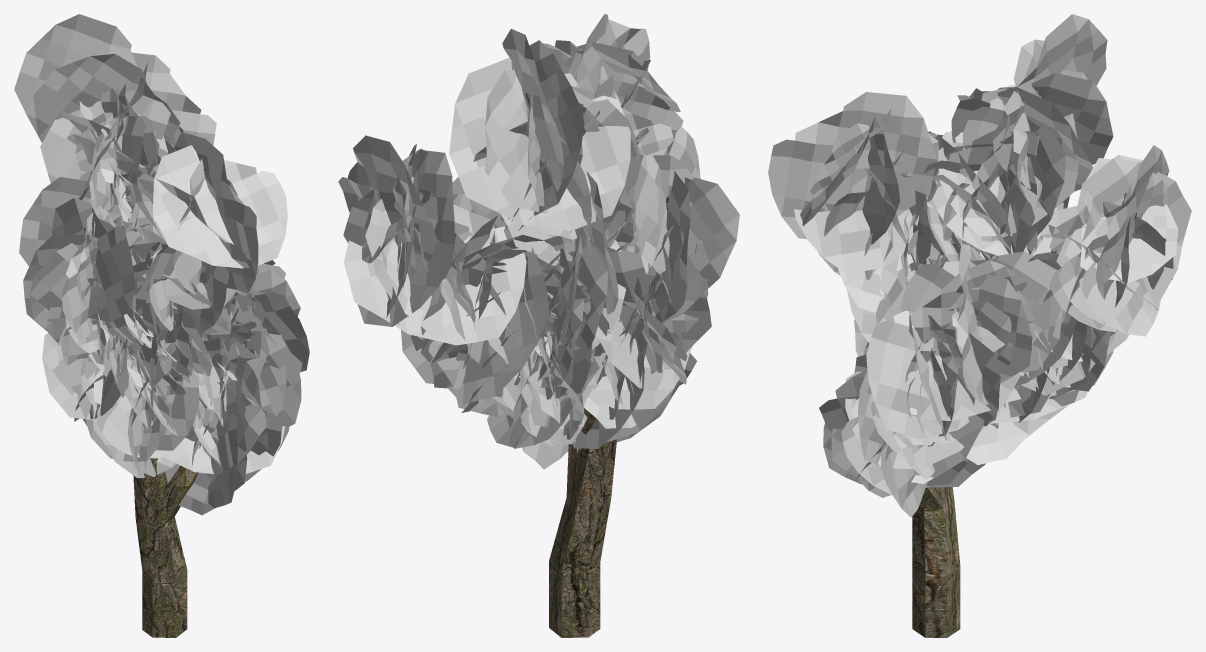
File: particle-tree.fbx
3 renders of one model, left to right at view 1: azimuth 30°, elevation 25°; view 2: azimuth 150°, elevation 25°; view 3: azimuth 270°, elevation 25°, orthographic. The views are drawn at different scales.
Parts seen in each view (by area): view 1: Cube|leaves1|Dupli|175, Cube, Cube|leaves1|Dupli|74, Cube|leaves1|Dupli|213, Cube|leaves1|Dupli|75, Cube|leaves1|Dupli|176, Cube|leaves1|Dupli|70, Cube|leaves1|Dupli|146, Cube|leaves1|Dupli|296, Cube|leaves1|Dupli|212, Cube|leaves1|Dupli|211, Cube|leaves1|Dupli|229 (+52 smaller); view 2: Cube|leaves1|Dupli|55, Cube, Cube|leaves1|Dupli|141, Cube|leaves1|Dupli|117, Cube|leaves1|Dupli|56, Cube|leaves1|Dupli|138, Cube|leaves1|Dupli|146, Cube|leaves1|Dupli|212, Cube|leaves1|Dupli|213, Cube|leaves1|Dupli|75, Cube|leaves1|Dupli|74, Cube|leaves1|Dupli|211 (+45 smaller); view 3: Cube|leaves1|Dupli|176, Cube, Cube|leaves1|Dupli|251, Cube|leaves1|Dupli|74, Cube|leaves1|Dupli|261, Cube|leaves1|Dupli|56, Cube|leaves1|Dupli|144, Cube|leaves1|Dupli|171, Cube|leaves1|Dupli|138, Cube|leaves1|Dupli|146, Cube|leaves1|Dupli|254, Cube|leaves1|Dupli|174 (+55 smaller).
Boxes of the visible parts, bbox=[...] form: Cube|leaves1|Dupli|175: bbox=[153, 145, 287, 268]; Cube: bbox=[93, 208, 218, 637]; Cube|leaves1|Dupli|74: bbox=[14, 14, 170, 139]; Cube|leaves1|Dupli|213: bbox=[52, 197, 134, 321]; Cube|leaves1|Dupli|75: bbox=[33, 54, 146, 142]; Cube|leaves1|Dupli|176: bbox=[174, 132, 258, 293]; Cube|leaves1|Dupli|70: bbox=[40, 90, 168, 183]; Cube|leaves1|Dupli|146: bbox=[132, 52, 216, 145]; Cube|leaves1|Dupli|296: bbox=[19, 177, 90, 266]; Cube|leaves1|Dupli|212: bbox=[30, 230, 141, 336]; Cube|leaves1|Dupli|211: bbox=[23, 234, 172, 340]; Cube|leaves1|Dupli|229: bbox=[207, 326, 269, 476]; Cube|leaves1|Dupli|55: bbox=[449, 58, 630, 230]; Cube: bbox=[377, 93, 668, 637]; Cube|leaves1|Dupli|141: bbox=[343, 204, 526, 345]; Cube|leaves1|Dupli|117: bbox=[447, 247, 549, 404]; Cube|leaves1|Dupli|56: bbox=[485, 69, 579, 213]; Cube|leaves1|Dupli|138: bbox=[357, 149, 454, 326]; Cube|leaves1|Dupli|146: bbox=[338, 135, 437, 261]; Cube|leaves1|Dupli|212: bbox=[684, 177, 739, 297]; Cube|leaves1|Dupli|213: bbox=[634, 126, 700, 274]; Cube|leaves1|Dupli|75: bbox=[511, 40, 584, 215]; Cube|leaves1|Dupli|74: bbox=[502, 28, 563, 191]; Cube|leaves1|Dupli|211: bbox=[664, 171, 690, 320]; Cube|leaves1|Dupli|176: bbox=[768, 92, 937, 239]; Cube: bbox=[912, 213, 1136, 637]; Cube|leaves1|Dupli|251: bbox=[866, 310, 968, 439]; Cube|leaves1|Dupli|74: bbox=[993, 14, 1107, 171]; Cube|leaves1|Dupli|261: bbox=[900, 251, 1062, 372]; Cube|leaves1|Dupli|56: bbox=[951, 73, 1113, 164]; Cube|leaves1|Dupli|144: bbox=[1049, 158, 1191, 333]; Cube|leaves1|Dupli|171: bbox=[794, 133, 929, 273]; Cube|leaves1|Dupli|138: bbox=[1080, 158, 1160, 336]; Cube|leaves1|Dupli|146: bbox=[1096, 145, 1169, 299]; Cube|leaves1|Dupli|254: bbox=[975, 274, 1032, 383]; Cube|leaves1|Dupli|174: bbox=[862, 117, 899, 244].
Size of the model in its own units: 966 by 1946 by 1237.
